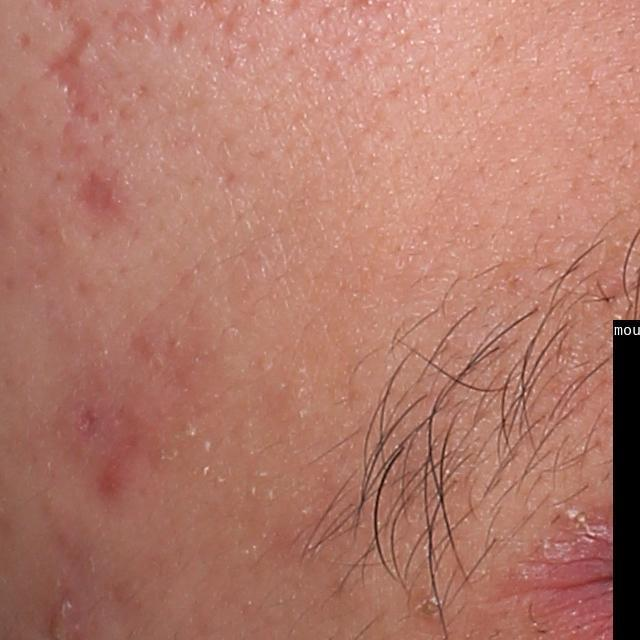atrophic_scar: (44, 12, 104, 127), (71, 168, 125, 228), (77, 405, 101, 435), (167, 20, 187, 48)
comedo: (417, 597, 442, 622)
